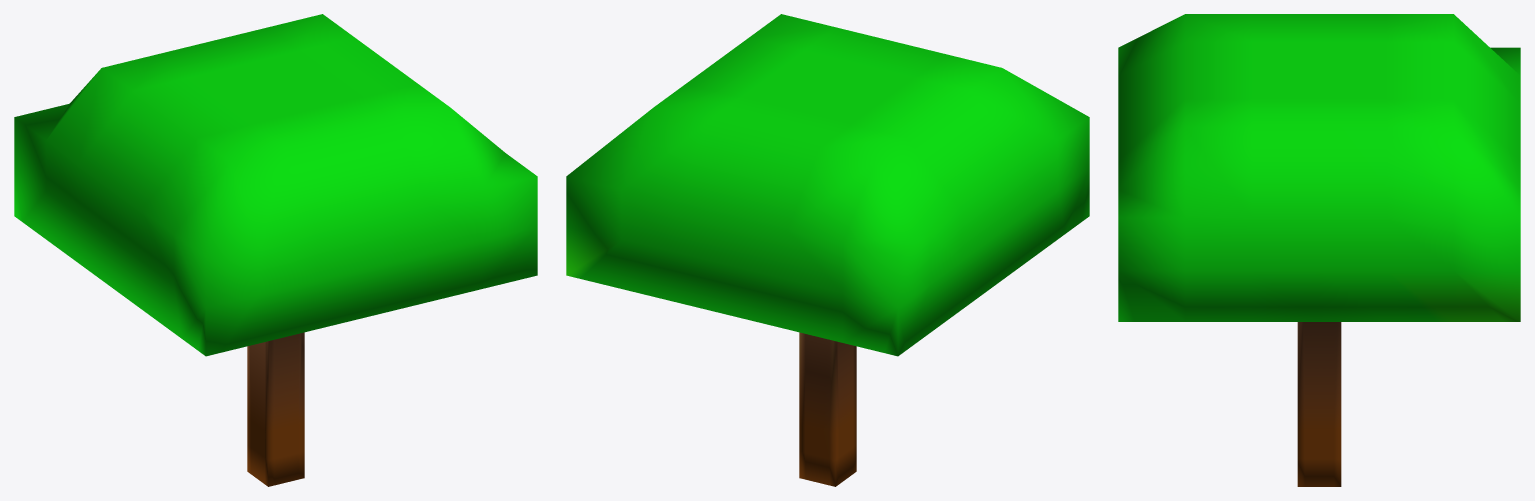
The model's file is testTree.fbx.
3 renders of one model, left to right at view 1: azimuth 30°, elevation 25°; view 2: azimuth 150°, elevation 25°; view 3: azimuth 270°, elevation 25°, orthographic. The views are drawn at different scales.
Visible parts, largest first — view 1: Cube; view 2: Cube; view 3: Cube.
Boxes of the visible parts, bbox=[...] form: Cube: bbox=[14, 14, 537, 486]; Cube: bbox=[566, 14, 1089, 486]; Cube: bbox=[1118, 14, 1520, 486].
Bounding box in the file's own units: 4.32 × 4.82 × 4.32.
